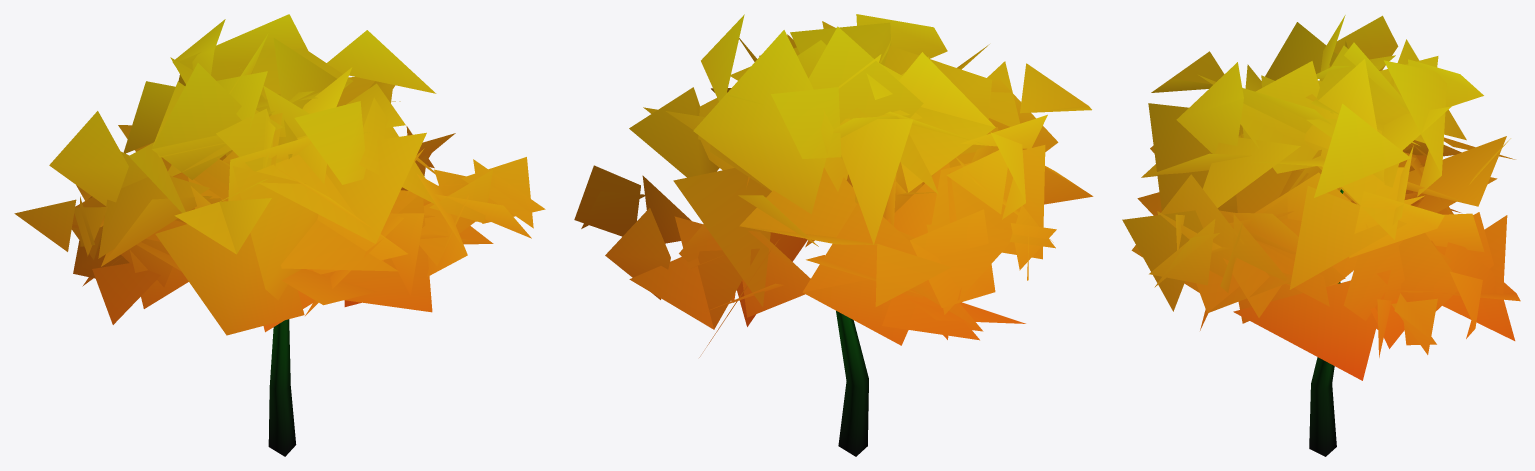
Rendered from small_birch_lod1.obj.
The picture shows the model from 3 angles, left to right: view 1: azimuth 30°, elevation 25°; view 2: azimuth 150°, elevation 25°; view 3: azimuth 270°, elevation 25°; orthographic projection. The views are drawn at different scales.
Parts seen in each view (by area): view 1: SmallBirchLoD1; view 2: SmallBirchLoD1; view 3: SmallBirchLoD1.
Boxes of the visible parts, x1,y1,x2,y2 form: SmallBirchLoD1: (14, 14, 545, 456); SmallBirchLoD1: (574, 14, 1093, 456); SmallBirchLoD1: (1122, 15, 1520, 456).
Size of the model in its own units: 17.74 by 16.27 by 14.35.
